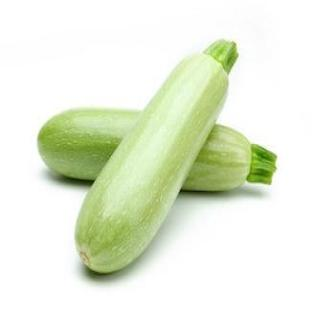Zucchini: (76, 41, 237, 272), (38, 108, 139, 179)
